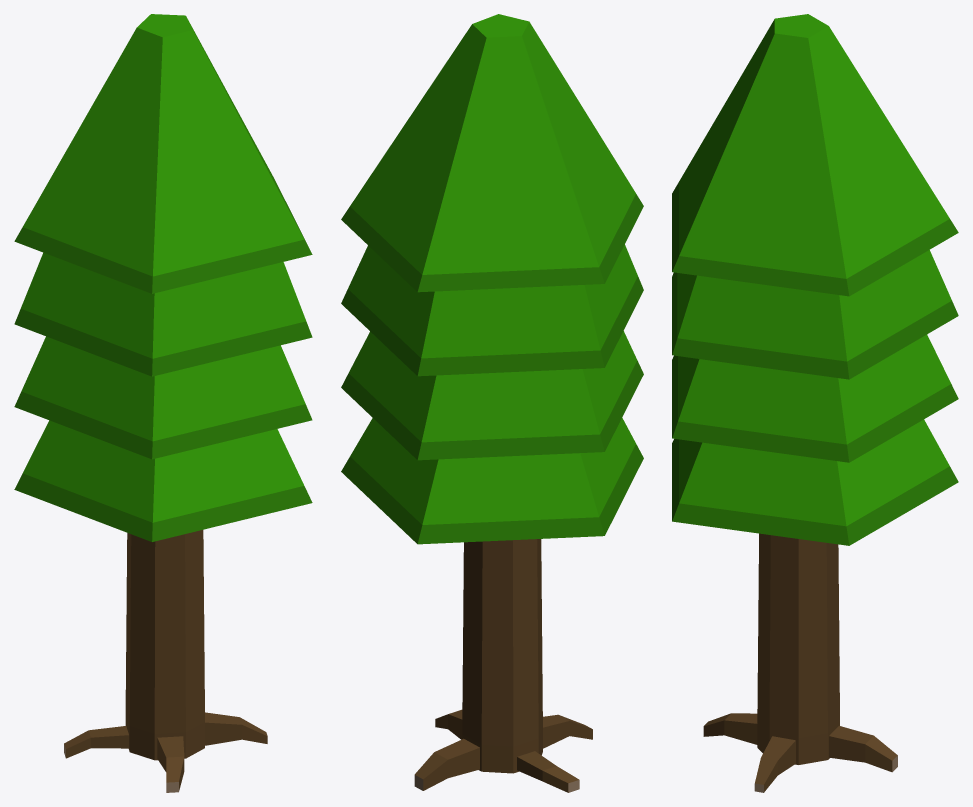
Rendered from Tree_LowPoly.fbx.
The picture shows the model from 3 angles, left to right: view 1: azimuth 30°, elevation 25°; view 2: azimuth 150°, elevation 25°; view 3: azimuth 270°, elevation 25°; orthographic projection.
Visible parts, largest first — view 1: Tree_LowPoly; view 2: Tree_LowPoly; view 3: Tree_LowPoly.
Boxes of the visible parts, box(x1,y1,x2,y2) form: Tree_LowPoly: box(14, 14, 312, 792); Tree_LowPoly: box(341, 14, 643, 792); Tree_LowPoly: box(672, 14, 958, 792).
Bounding box in the file's own units: 506 × 1347 × 481.
1 material, 1 textured.
